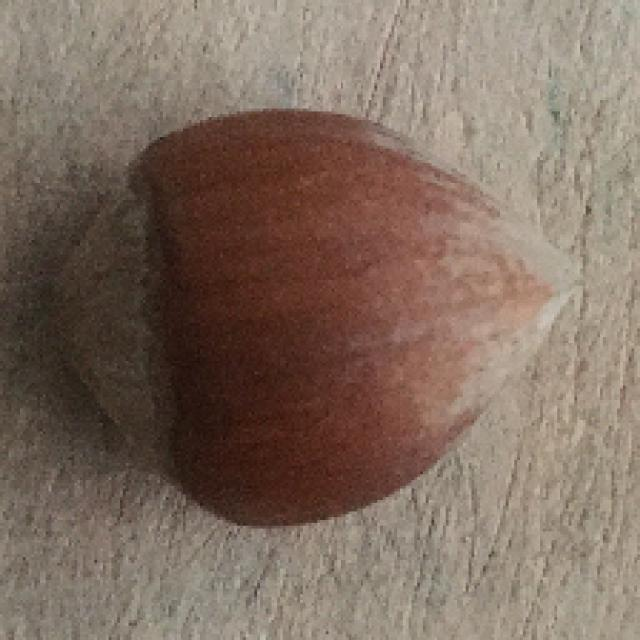qualityHazelnut: (16, 104, 576, 527)
